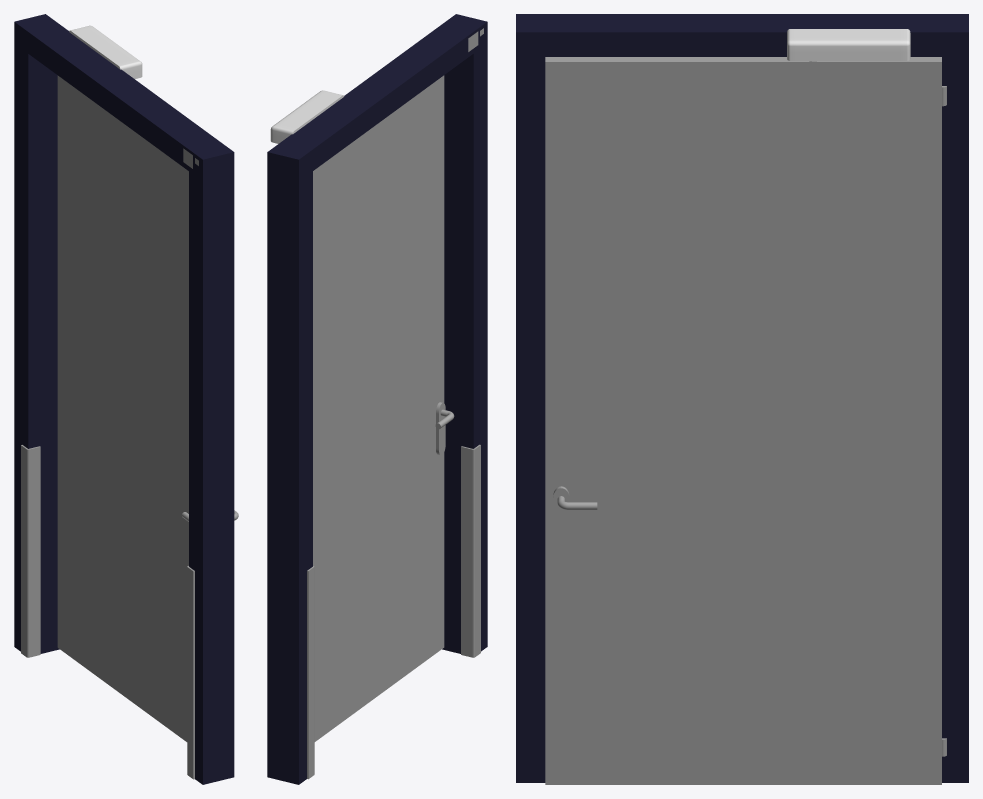
The model's file is Isolation_Door_NoWindow_Model.fbx.
3 views of the same model, side by side, from view 1: azimuth 30°, elevation 25°; view 2: azimuth 150°, elevation 25°; view 3: azimuth 270°, elevation 25° (orthographic). The views are drawn at different scales.
Parts seen in each view (by area): view 1: Door, Frame, DoorBumper_Left, DoorBumper_Right, pCube31; view 2: Door, Frame, DoorBumper_Right, DoorBumper_Left, pCube31, pCube38; view 3: Door, Frame, pCube31, pCube36.
Part boxes in pixels (bbox=[...]): Door: bbox=[57, 75, 188, 741]; Frame: bbox=[14, 14, 234, 784]; DoorBumper_Left: bbox=[21, 445, 40, 657]; DoorBumper_Right: bbox=[187, 566, 194, 779]; pCube31: bbox=[69, 25, 142, 78]; Door: bbox=[313, 75, 444, 741]; Frame: bbox=[267, 14, 487, 784]; DoorBumper_Right: bbox=[461, 444, 480, 657]; DoorBumper_Left: bbox=[307, 566, 314, 779]; pCube31: bbox=[270, 90, 344, 143]; pCube38: bbox=[436, 402, 445, 455]; Door: bbox=[545, 57, 941, 784]; Frame: bbox=[516, 14, 968, 782]; pCube31: bbox=[787, 29, 910, 60]; pCube36: bbox=[553, 486, 569, 550].
Bounding box in the file's own units: 0.2382 × 2.47 × 1.35.
